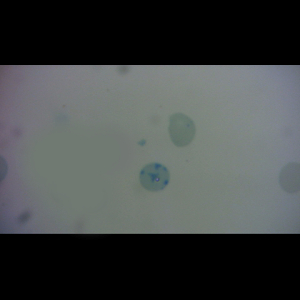aggregate reticulocyte: (139, 163, 170, 192)
punctate reticulocyte: (168, 111, 197, 148)
